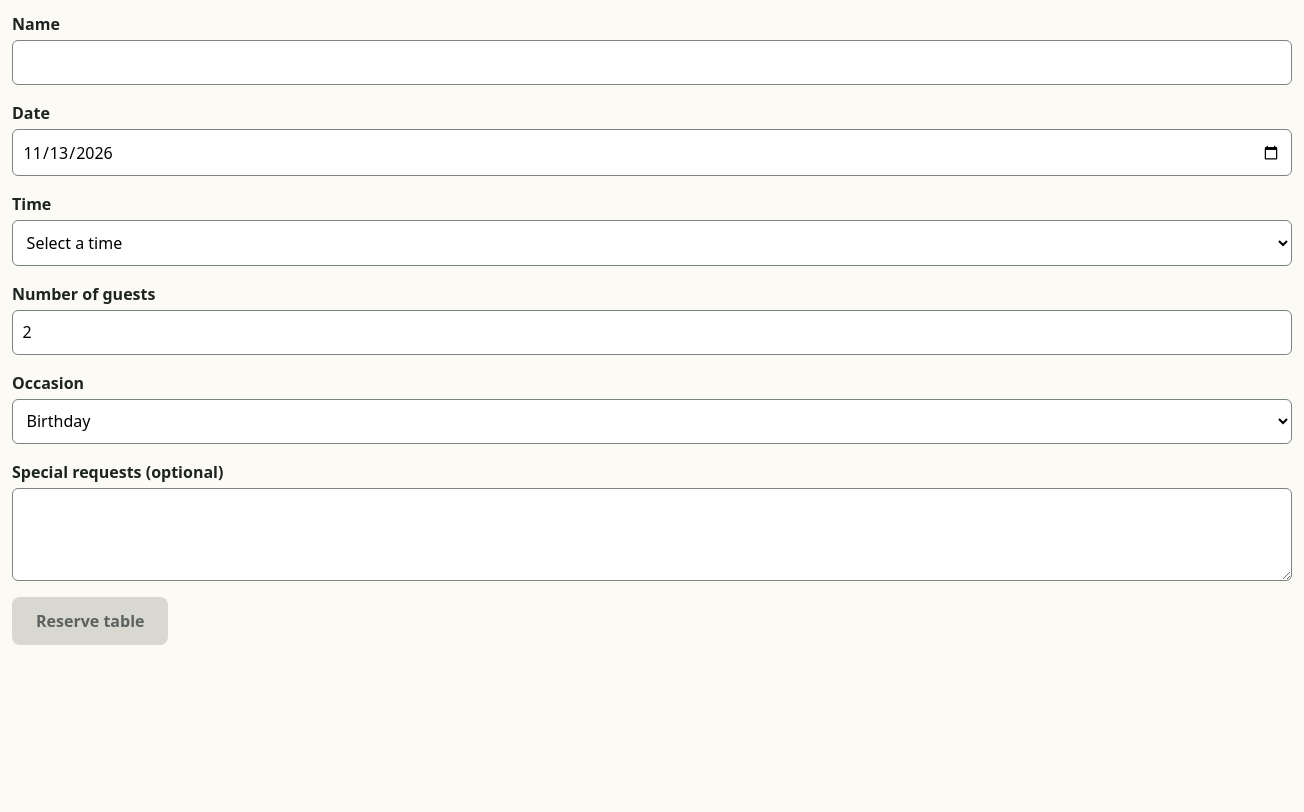
Scenario: BookingForm › submit button is disabled until the form is valid
The image size is (1304, 812).
Expected: the button "Reserve table" is disabled, [12, 597, 168, 645]
Step 1. Type "Ann" into the field labelled "Name" → [652, 63], box [12, 40, 1292, 85]
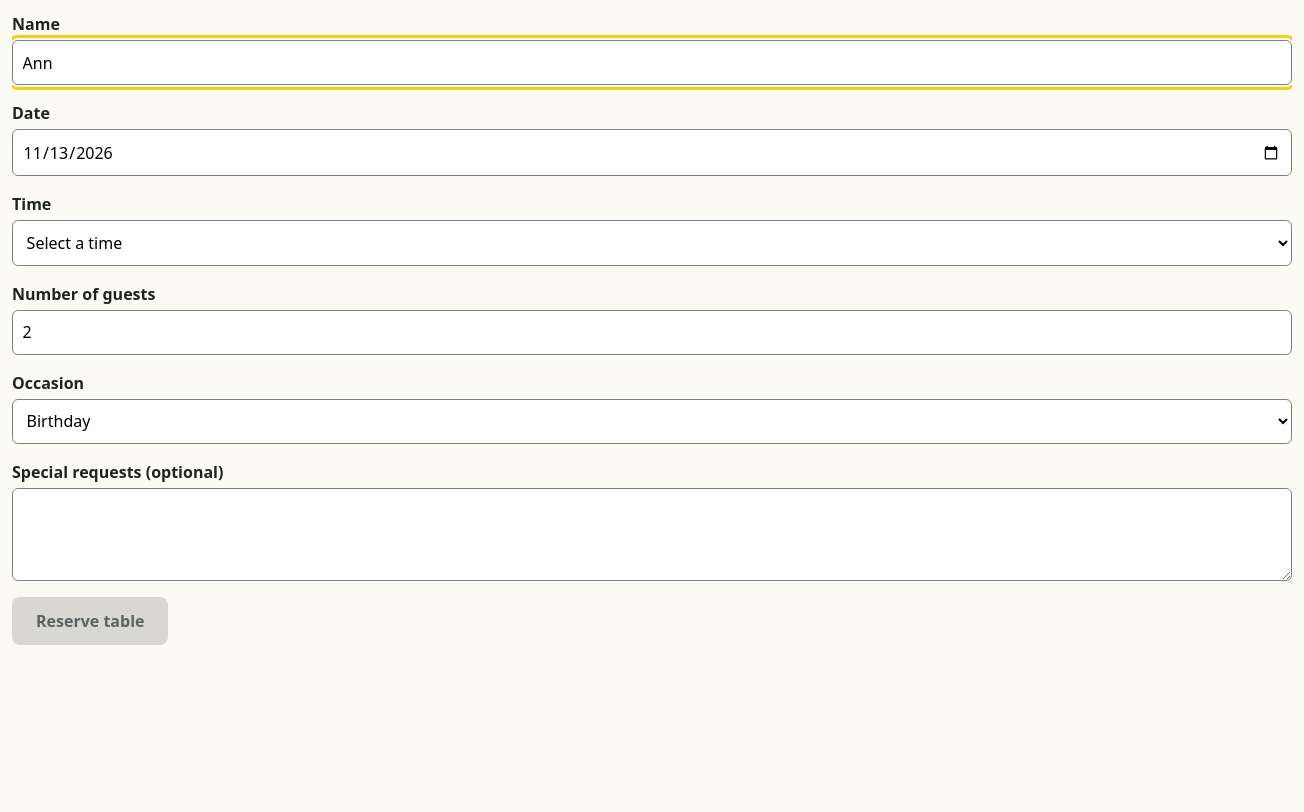
Step 2. Select "17:00" in the dropdown labelled "Time" → [652, 243], box [12, 220, 1292, 266]
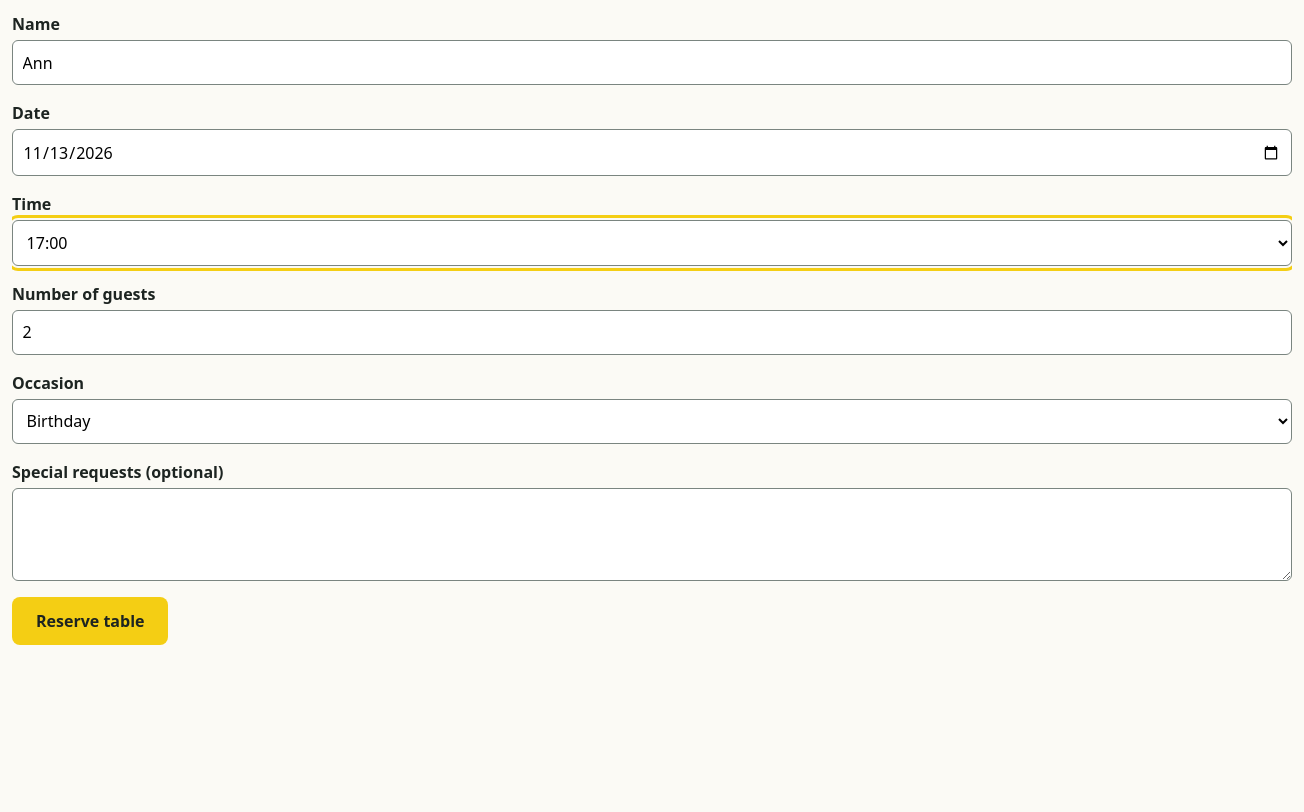
Result: the button "Reserve table" is enabled at [12, 597, 168, 645]
